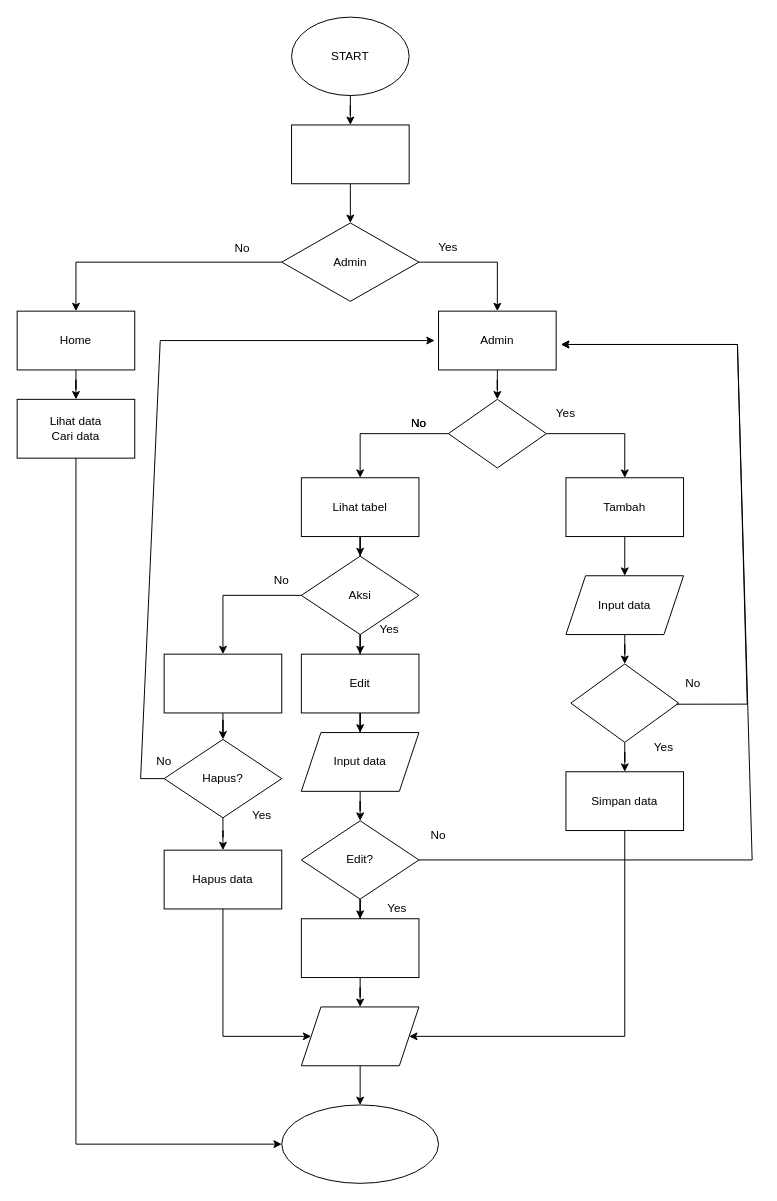
Image size: 777x1201. Some labels were removed from this diagram. Each missing label, with the centre of its shape:
"Buka Web" belongs at point (350, 154).
"END" belongs at point (360, 1143).
"Hapus" belongs at point (222, 683).
"Simpan Perubahan" belongs at point (359, 948).
"Simpan?" belongs at point (624, 702).
"Tambah?" belongs at point (496, 433).
"Tampilkan" belongs at point (359, 1036).
